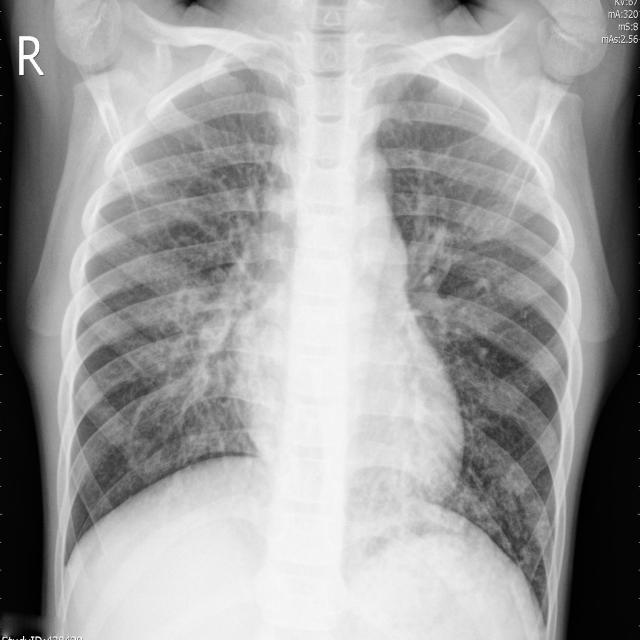low-pneumonia: (134, 239, 254, 429), (409, 204, 497, 348)
